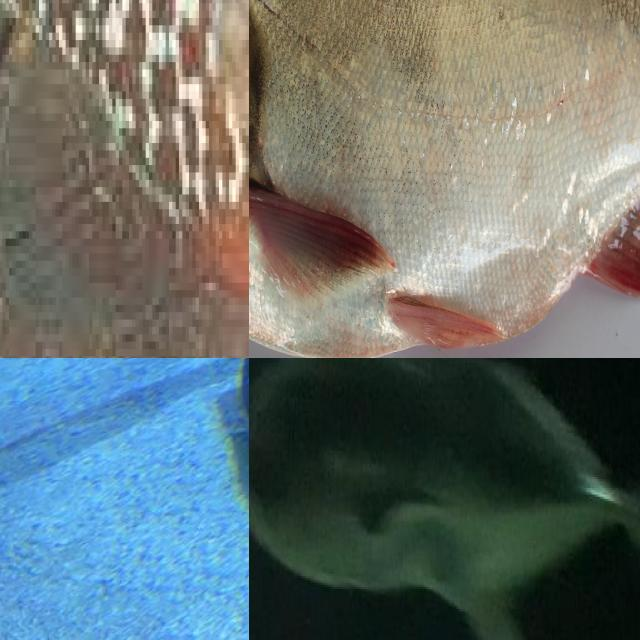fish: (249, 0, 640, 358), (0, 0, 249, 358)
